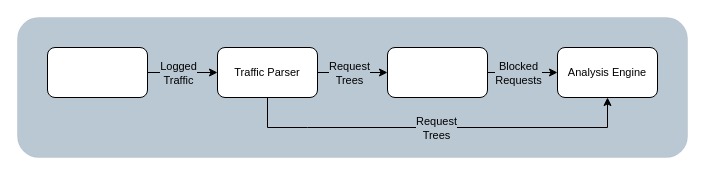
Image size: 704x174. Some labels were removed from this diagram. Here are the shapes that lost their labels. From the top down, the box of each, then its label:
(46, 46, 148, 98): Traffic Logger
(386, 46, 488, 98): Simulation Engine
